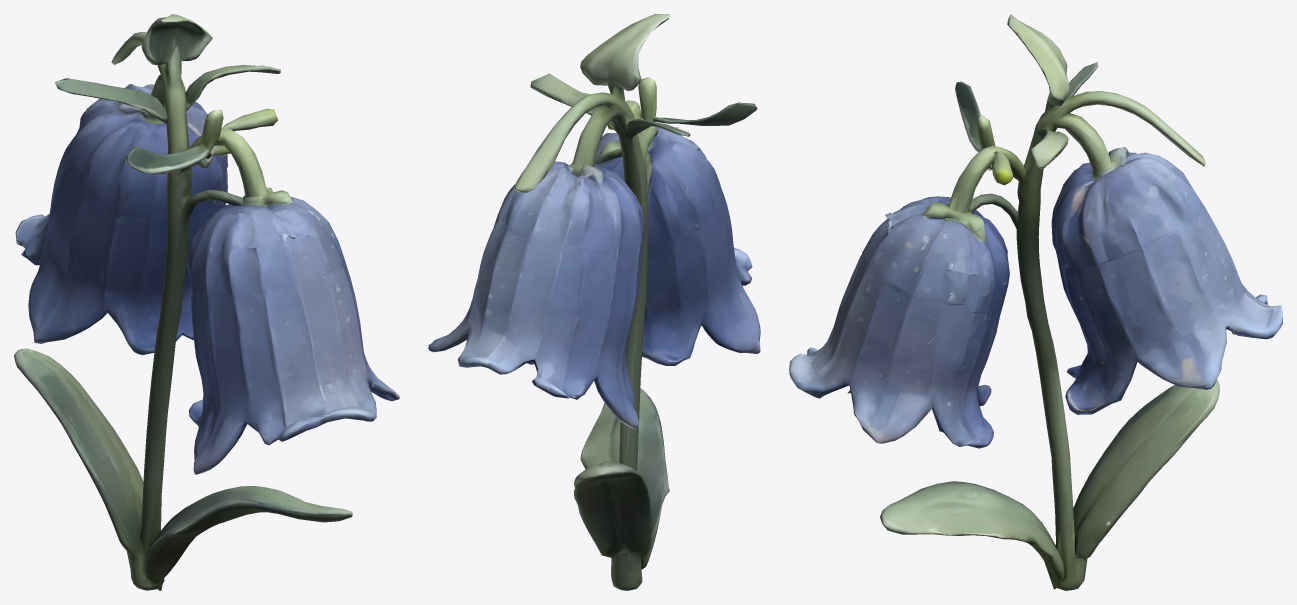
The model's file is bell-bloom.glb.
The picture shows the model from 3 angles, left to right: view 1: azimuth 30°, elevation 25°; view 2: azimuth 150°, elevation 25°; view 3: azimuth 270°, elevation 25°; orthographic projection. The views are drawn at different scales.
Visible parts, largest first — view 1: tripo_node_01a22143-cffa-7619-ac56-2434259be6ad; view 2: tripo_node_01a22143-cffa-7619-ac56-2434259be6ad; view 3: tripo_node_01a22143-cffa-7619-ac56-2434259be6ad.
Part boxes in pixels (x1,y1,x2,y2): tripo_node_01a22143-cffa-7619-ac56-2434259be6ad: (14, 14, 399, 590); tripo_node_01a22143-cffa-7619-ac56-2434259be6ad: (428, 14, 760, 590); tripo_node_01a22143-cffa-7619-ac56-2434259be6ad: (789, 14, 1282, 590).
Bounding box in the file's own units: 0.4106 × 1 × 0.791.
Materials: 1 (1 with a texture image).
